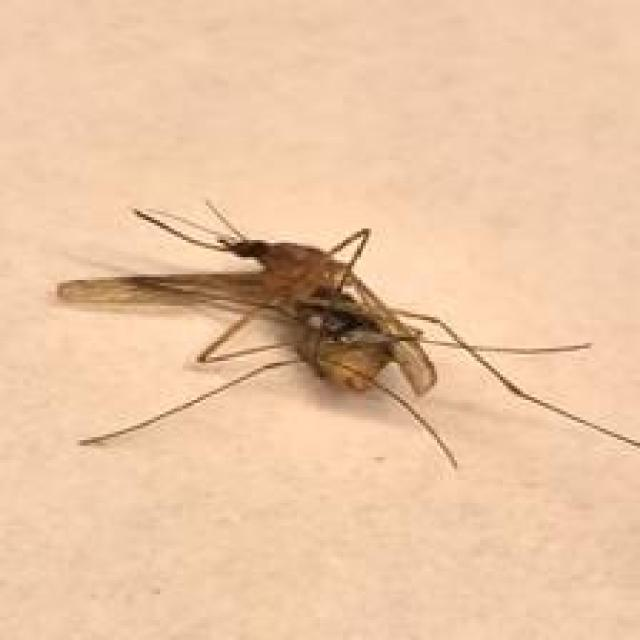Culex: (54, 195, 640, 476)
